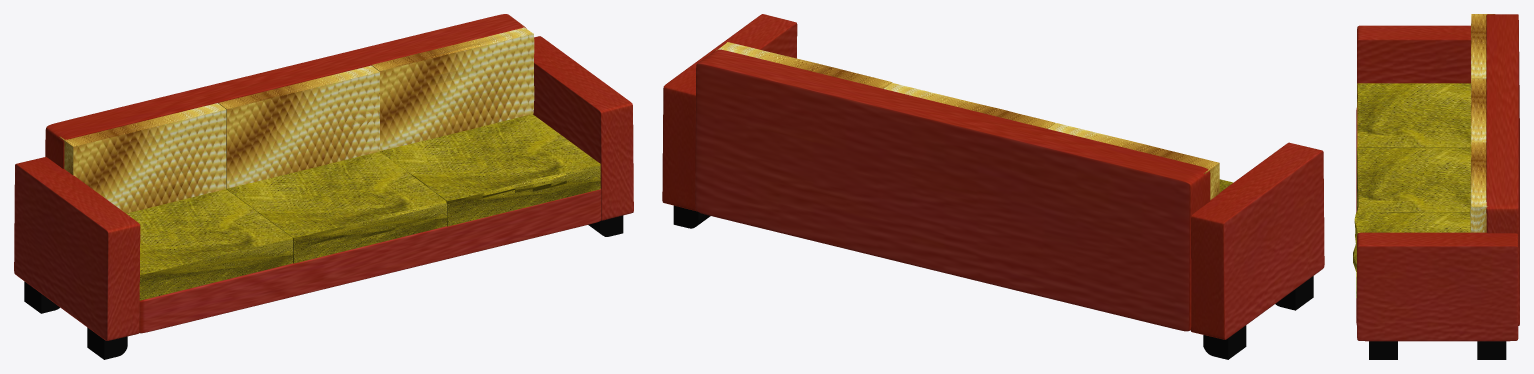
File: SILLON.fbx
The picture shows the model from 3 angles, left to right: view 1: azimuth 30°, elevation 25°; view 2: azimuth 150°, elevation 25°; view 3: azimuth 270°, elevation 25°; orthographic projection. The views are drawn at different scales.
Parts seen in each view (by area): view 1: Cube.002, Cube, Cube.005, Cube.003, Cube.008, Cube.007, Cube.006, Cube.004, Cube.001, Cube.009, Cube.011; view 2: Cube.001, Cube.002, Cube.006, Cube.008, Cube.009, Cube.007, Cube.011; view 3: Cube.002, Cube.001, Cube.003, Cube.004, Cube.005, Cube.008, Cube.011, Cube.006, Cube.007, Cube.
Boxes of the visible parts, left/top/right/bottom form: Cube.002: left=14, top=36, right=633, bottom=340; Cube: left=139, top=189, right=601, bottom=333; Cube.005: left=380, top=114, right=600, bottom=226; Cube.003: left=226, top=151, right=446, bottom=263; Cube.008: left=371, top=26, right=534, bottom=150; Cube.007: left=218, top=65, right=380, bottom=188; Cube.006: left=59, top=103, right=226, bottom=213; Cube.004: left=126, top=189, right=292, bottom=300; Cube.001: left=45, top=14, right=526, bottom=168; Cube.009: left=24, top=281, right=127, bottom=359; Cube.011: left=588, top=215, right=623, bottom=236; Cube.001: left=695, top=49, right=1210, bottom=331; Cube.002: left=662, top=14, right=1324, bottom=339; Cube.006: left=1048, top=123, right=1219, bottom=199; Cube.008: left=716, top=42, right=892, bottom=88; Cube.009: left=1203, top=276, right=1313, bottom=359; Cube.007: left=884, top=83, right=1055, bottom=128; Cube.011: left=673, top=205, right=710, bottom=228; Cube.002: left=1357, top=25, right=1518, bottom=341; Cube.001: left=1486, top=14, right=1519, bottom=325; Cube.003: left=1357, top=148, right=1471, bottom=212; Cube.004: left=1357, top=83, right=1471, bottom=147; Cube.005: left=1353, top=212, right=1470, bottom=298; Cube.008: left=1470, top=142, right=1487, bottom=232; Cube.011: left=1369, top=341, right=1506, bottom=359; Cube.006: left=1470, top=14, right=1494, bottom=110; Cube.007: left=1471, top=78, right=1486, bottom=144; Cube: left=1356, top=107, right=1357, bottom=324.
Size of the model in its own units: 1016 by 303 by 324.
